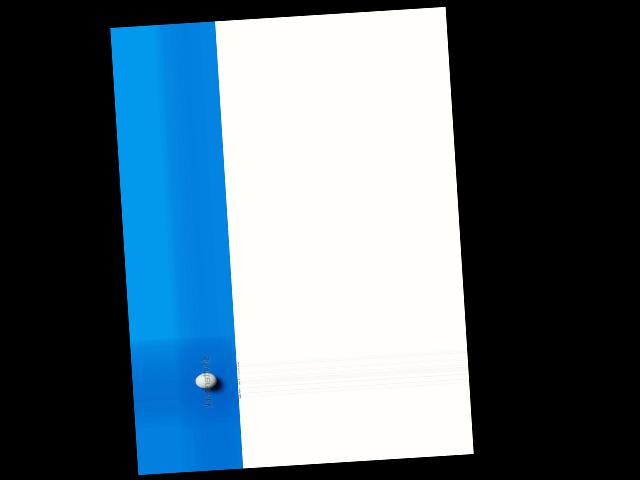egg: (194, 372, 217, 389)
